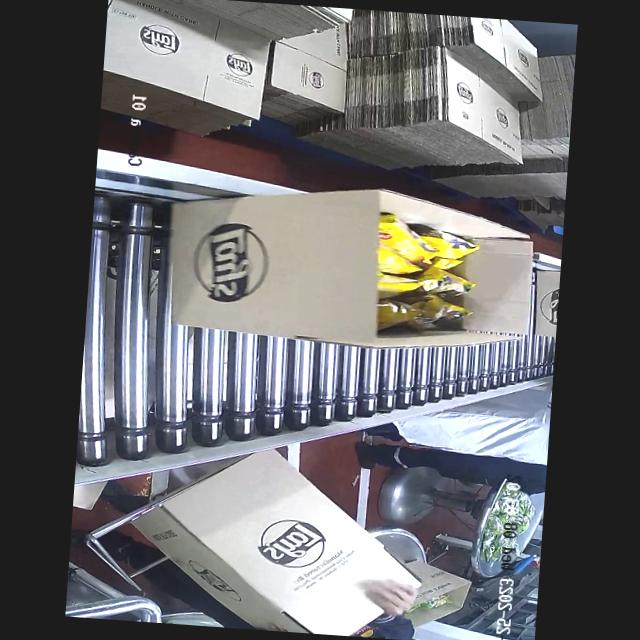salted: (364, 214, 486, 340)
